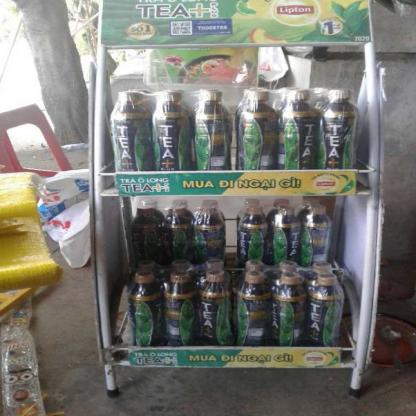olong-tea: (146, 88, 195, 171), (234, 88, 278, 172), (106, 90, 151, 170), (192, 88, 234, 171), (320, 86, 362, 169), (123, 270, 168, 346), (280, 88, 322, 168), (303, 271, 346, 347), (234, 269, 272, 346), (123, 198, 165, 263), (164, 272, 200, 346), (199, 272, 234, 345), (273, 270, 303, 348), (192, 197, 227, 263), (162, 198, 195, 262), (265, 202, 300, 261), (299, 202, 333, 262), (235, 202, 267, 262)
